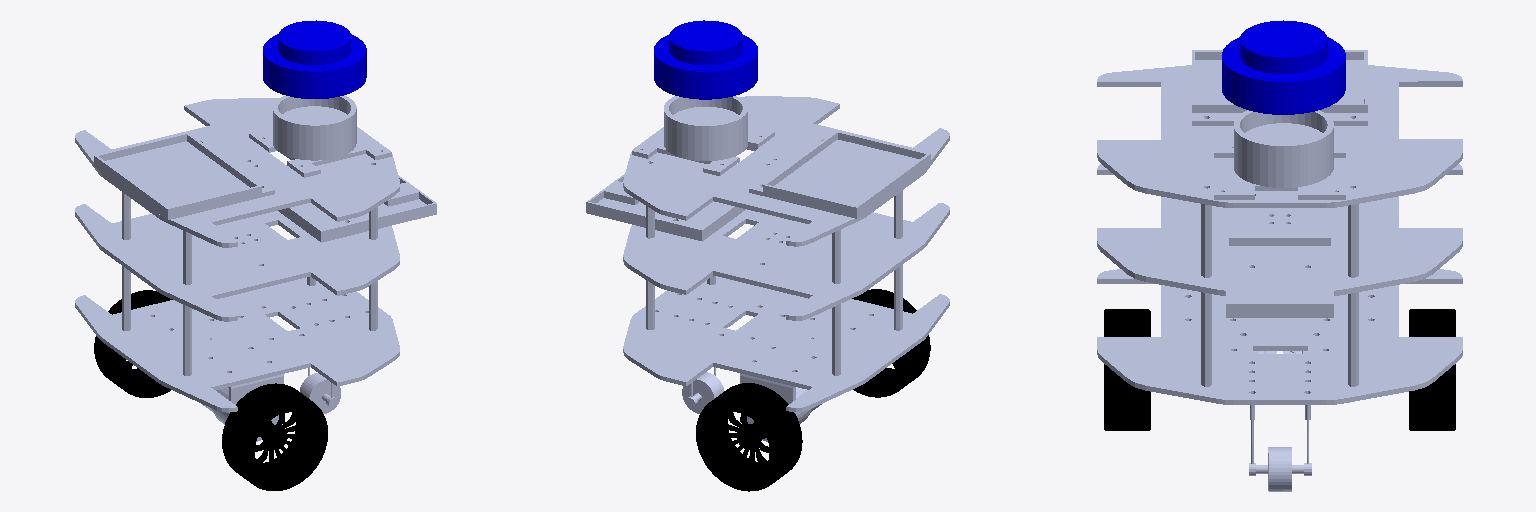
The robot description file, URDF, robot "wheel_chair_robot":
<?xml version="1.0" encoding="utf-8"?>
<!-- This URDF was automatically created by SolidWorks to URDF Exporter! Originally created by [author] ([email redacted]) 
     Commit Version: 1.6.0-1-g15f4949  Build Version: 1.6.7594.29634
     For more information, please see http://wiki.ros.org/sw_urdf_exporter -->
<robot
  name="wheel_chair_robot">
 
 <link name="base_footprint"/>

  <joint name="base_joint" type="fixed">
    <parent link="base_footprint"/>
    <child link="base_link"/>
    <origin xyz="0.0 0.0 0" rpy="0 0 -1.57"/>
  </joint>


  <link
    name="base_link">
    <inertial>
      <origin
        xyz="-0.000183927413758976 0.122740439529099 -0.0288849781882509"
        rpy="0 0 0" />
      <mass
        value="0.471290238762329" />
      <inertia
        ixx="0.000718160491232769"
        ixy="6.15110268509589E-10"
        ixz="-1.16572820178585E-08"
        iyy="0.00133061138183249"
        iyz="1.38556065851486E-07"
        izz="0.000639912786707179" />
    </inertial>
    <visual>
      <origin
        xyz="0 0 0"
        rpy="0 0 0" />
      <geometry>
        <mesh
          filename="package://wheel_chair_robot/meshes/base_link.STL" />
      </geometry>
      <material
        name="">
        <color
          rgba="0.792156862745098 0.819607843137255 0.933333333333333 1" />
      </material>
    </visual>
    <collision>
      <origin
        xyz="0 0 0"
        rpy="0 0 0" />
      <geometry>
        <mesh
          filename="package://wheel_chair_robot/meshes/base_link.STL" />
      </geometry>
    </collision>
  </link>
  <link
    name="imu_link">
    <inertial>
      <origin
        xyz="-9.3585E-18 0 0.000865"
        rpy="0 0 0" />
      <mass
        value="0.00066052" />
      <inertia
        ixx="2.8402E-08"
        ixy="2.7263E-24"
        ixz="5.1782E-25"
        iyy="1.6689E-08"
        iyz="-1.0538E-25"
        izz="4.4761E-08" />
    </inertial>
    <visual>
      <origin
        xyz="0 0 0"
        rpy="0 0 0" />
      <geometry>
        <mesh
          filename="package://wheel_chair_robot/meshes/imu_link.STL" />
      </geometry>
      <material
        name="">
        <color
          rgba="1 0 0 1" />
      </material>
    </visual>
    <collision>
      <origin
        xyz="0 0 0"
        rpy="0 0 0" />
      <geometry>
        <mesh
          filename="package://wheel_chair_robot/meshes/imu_link.STL" />
      </geometry>
    </collision>
  </link>
  <joint
    name="imu_joint"
    type="fixed">
    <origin
      xyz="0 0.14042 0.14476"
      rpy="0 0 0" />
    <parent
      link="base_link" />
    <child
      link="imu_link" />
    <axis
      xyz="0 0 0" />
  </joint>
  <link
    name="lidar_link">
    <inertial>
      <origin
        xyz="-8.6736E-19 -1.3878E-17 0.016956"
        rpy="0 0 0" />
      <mass
        value="0.090366" />
      <inertia
        ixx="2.9262E-05"
        ixy="-1.8079E-37"
        ixz="-2.7102E-21"
        iyy="2.9262E-05"
        iyz="3.4542E-21"
        izz="4.6984E-05" />
    </inertial>
    <visual>
      <origin
        xyz="0 0 0"
        rpy="0 0 0" />
      <geometry>
        <mesh
          filename="package://wheel_chair_robot/meshes/lidar_link.STL" />
      </geometry>
      <material
        name="">
        <color
          rgba="0 0 1 1" />
      </material>
    </visual>
    <collision>
      <origin
        xyz="0 0 0"
        rpy="0 0 0" />
      <geometry>
        <mesh
          filename="package://wheel_chair_robot/meshes/lidar_link.STL" />
      </geometry>
    </collision>
  </link>
  <joint
    name="lidar_joint"
    type="fixed">
    <origin
      xyz="-0.002 0.079323 0.24026"
      rpy="0 -3.14 1.57" />
    <parent
      link="base_link" />
    <child
      link="lidar_link" />
    <axis
      xyz="0 0 1" />
  </joint>
  <link
    name="caster_link">
    <inertial>
      <origin
        xyz="0 0 -9.22925050845154E-17"
        rpy="0 0 0" />
      <mass
        value="0.00573786372737865" />
      <inertia
        ixx="3.01346626020544E-07"
        ixy="-1.32348898008484E-23"
        ixz="-4.49868165120885E-24"
        iyy="3.01346626020544E-07"
        iyz="-1.35347653668217E-23"
        izz="4.48449911942938E-07" />
    </inertial>
    <visual>
      <origin
        xyz="0 0 0"
        rpy="0 0 0" />
      <geometry>
        <mesh
          filename="package://wheel_chair_robot/meshes/caster_link.STL" />
      </geometry>
      <material
        name="">
        <color
          rgba="0.792156862745098 0.819607843137255 0.933333333333333 1" />
      </material>
    </visual>
    <collision>
      <origin
        xyz="0 0 0"
        rpy="0 0 0" />
      <geometry>
        <mesh
          filename="package://wheel_chair_robot/meshes/caster_link.STL" />
      </geometry>
    </collision>
  </link>
  <joint
    name="caster_joint"
    type="fixed">
    <origin
      xyz="0 0.082473 0.01224"
      rpy="1.5708 -0.16099 1.5708" />
    <parent
      link="base_link" />
    <child
      link="caster_link" />
    <axis
      xyz="0 0 1" />
  </joint>
  <link
    name="wheel_R_link">
    <inertial>
      <origin
        xyz="-0.016617 -8.7964E-12 -7.3698E-07"
        rpy="0 0 0" />
      <mass
        value="0.053158" />
      <inertia
        ixx="4.0958E-05"
        ixy="3.054E-15"
        ixz="2.443E-10"
        iyy="2.3293E-05"
        iyz="5.1359E-16"
        izz="2.3293E-05" />
    </inertial>
    <visual>
      <origin
        xyz="0 0 0"
        rpy="0 0 0" />
      <geometry>
        <mesh
          filename="package://wheel_chair_robot/meshes/wheel_R_link.STL" />
      </geometry>
      <material
        name="">
        <color
          rgba="0 0 0 1" />
      </material>
    </visual>
    <collision>
      <origin
        xyz="0 0 0"
        rpy="0 0 0" />
      <geometry>
        <mesh
          filename="package://wheel_chair_robot/meshes/wheel_R_link.STL" />
      </geometry>
    </collision>
  </link>
  <joint
    name="wheel_R_joint"
    type="continuous">
    <origin
      xyz="0.0669 0 0.033497"
      rpy="1.5708 0 3.1416" />
    <parent
      link="base_link" />
    <child
      link="wheel_R_link" />
    <axis
      xyz="1 0 0" />
  </joint>
  <link
    name="wheel_L_link">
    <inertial>
      <origin
        xyz="0 0 0"
        rpy="0 0 0" />
      <mass
        value="0" />
      <inertia
        ixx="0"
        ixy="0"
        ixz="0"
        iyy="0"
        iyz="0"
        izz="0" />
    </inertial>
    <visual>
      <origin
        xyz="0 0 0"
        rpy="0 0 0" />
      <geometry>
        <mesh
          filename="package://wheel_chair_robot/meshes/wheel_L_link.STL" />
      </geometry>
      <material
        name="">
        <color
          rgba="0 0 0 1" />
      </material>
    </visual>
    <collision>
      <origin
        xyz="0 0 0"
        rpy="0 0 0" />
      <geometry>
        <mesh
          filename="package://wheel_chair_robot/meshes/wheel_L_link.STL" />
      </geometry>
    </collision>
  </link>
  <joint
    name="wheel_L_joint"
    type="continuous">
    <origin
      xyz="-0.0669000000000001 0 0.0334966062413412"
      rpy="0.57593551149876 0 0" />
    <parent
      link="base_link" />
    <child
      link="wheel_L_link" />
    <axis
      xyz="1 0 0" />
  </joint>
</robot>

--- Facts derived from the render (not from the file) ---
Views: 3 orthographic renders of the robot side by side, from view 1: azimuth 30°, elevation 25°; view 2: azimuth 150°, elevation 25°; view 3: azimuth 270°, elevation 25°.
Model wheel_chair_robot with 7 links and 6 joints (2 continuous, 4 fixed), rooted at base_footprint, posed all joints at 0.
Visible links, largest first — view 1: base_link, wheel_R_link, lidar_link, wheel_L_link, caster_link; view 2: base_link, wheel_L_link, lidar_link, wheel_R_link, caster_link; view 3: base_link, lidar_link, wheel_L_link, wheel_R_link, caster_link.
Link boxes in pixels (<box>): base_link: <box>75,95,436,441</box>; wheel_R_link: <box>222,383,327,490</box>; lidar_link: <box>263,20,366,98</box>; wheel_L_link: <box>94,290,172,397</box>; caster_link: <box>300,373,340,413</box>; base_link: <box>586,96,949,441</box>; wheel_L_link: <box>696,383,802,491</box>; lidar_link: <box>654,20,757,99</box>; wheel_R_link: <box>852,289,930,397</box>; caster_link: <box>682,372,723,413</box>; base_link: <box>1097,50,1462,475</box>; lidar_link: <box>1222,20,1345,114</box>; wheel_L_link: <box>1409,309,1455,430</box>; wheel_R_link: <box>1104,309,1150,430</box>; caster_link: <box>1268,447,1291,491</box>.
Size in the robot's own frame: 0.2145 by 0.2001 by 0.2702 metres.
5 mesh visuals loaded from 6 distinct referenced files (5 binary STL); not drawn: 1 (reference not matched to a file when rendering).